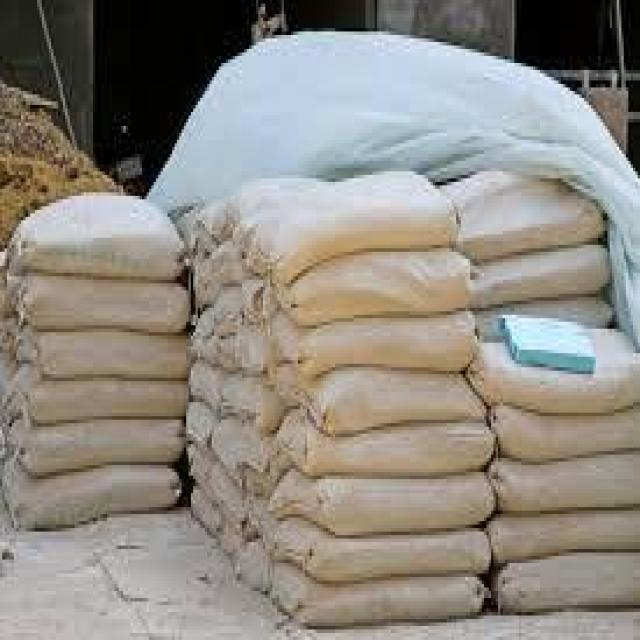gunny_bag: (245, 172, 457, 293), (442, 168, 607, 266), (7, 192, 194, 278), (469, 325, 640, 416), (275, 248, 468, 326), (272, 473, 492, 540), (276, 311, 473, 383), (277, 410, 490, 476), (0, 458, 184, 528), (274, 525, 493, 583), (279, 371, 487, 431), (272, 571, 479, 625), (12, 365, 191, 423), (493, 398, 640, 465), (494, 453, 640, 518), (16, 278, 192, 331), (475, 246, 610, 313), (16, 423, 183, 475), (10, 333, 188, 378), (495, 513, 638, 568), (500, 553, 640, 608), (201, 179, 319, 243), (188, 446, 255, 535), (211, 421, 269, 491), (229, 375, 283, 434), (191, 490, 240, 554), (196, 244, 243, 302), (235, 537, 275, 594), (190, 363, 229, 418), (186, 400, 220, 455)
